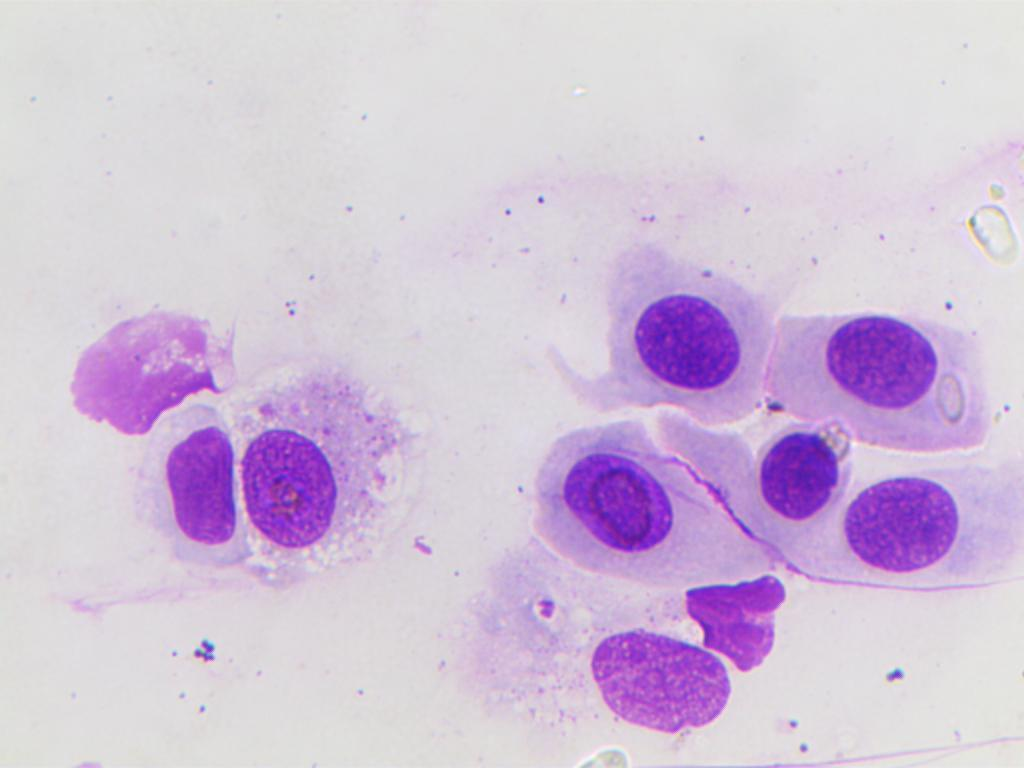artifact: (44, 301, 246, 440), (681, 572, 794, 669), (949, 171, 1020, 270), (930, 370, 983, 431)
epithelial: (236, 360, 420, 586), (543, 241, 769, 423), (762, 305, 1003, 447), (534, 424, 747, 575), (842, 465, 1023, 587), (115, 421, 234, 584), (587, 622, 732, 745), (747, 412, 837, 536)
